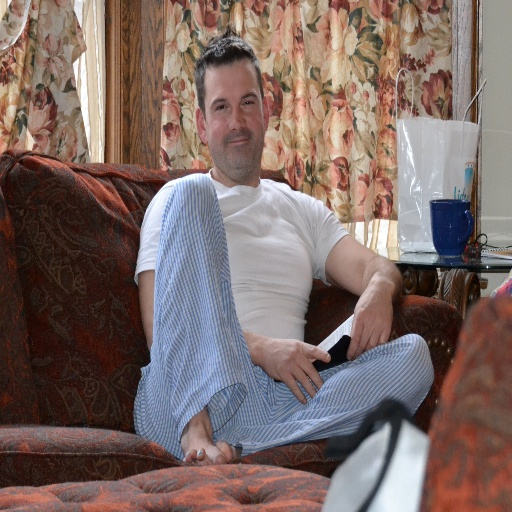hand: (343, 242, 416, 371), (259, 339, 331, 403)
